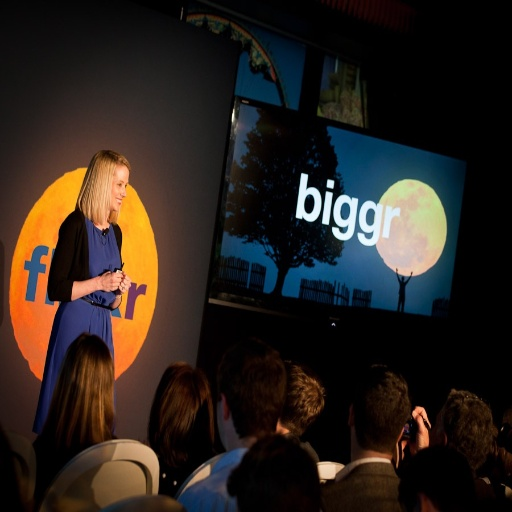hand: (405, 406, 431, 454), (101, 267, 123, 291), (116, 273, 131, 293)
